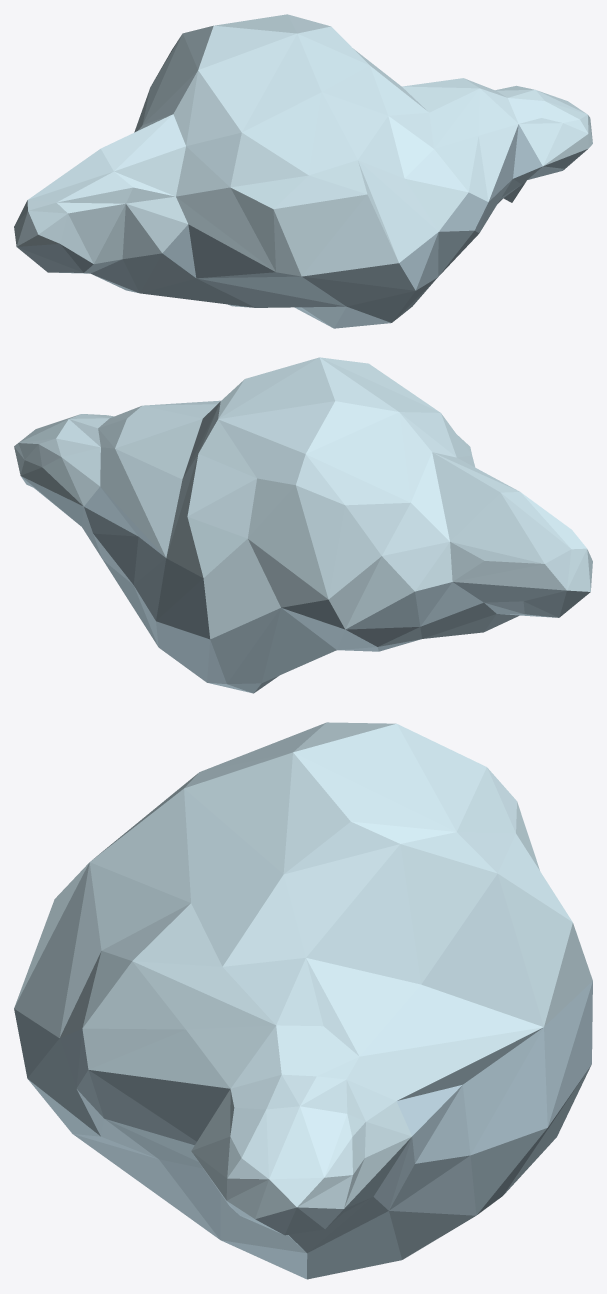
Rendered from SM_Env_Cloud_03.fbx.
The picture shows the model from 3 angles, top to bottom: view 1: azimuth 30°, elevation 25°; view 2: azimuth 150°, elevation 25°; view 3: azimuth 270°, elevation 25°; orthographic projection. The views are drawn at different scales.
Visible parts, largest first — view 1: SM_Env_Cloud_03; view 2: SM_Env_Cloud_03; view 3: SM_Env_Cloud_03.
Boxes of the visible parts, box(x1,y1,x2,y2) form: SM_Env_Cloud_03: box(14, 14, 592, 328); SM_Env_Cloud_03: box(14, 357, 592, 693); SM_Env_Cloud_03: box(14, 722, 592, 1279).
Bounding box in the file's own units: 0.055 × 0.0283 × 0.0322.
Materials: 1 (1 with a texture image).
